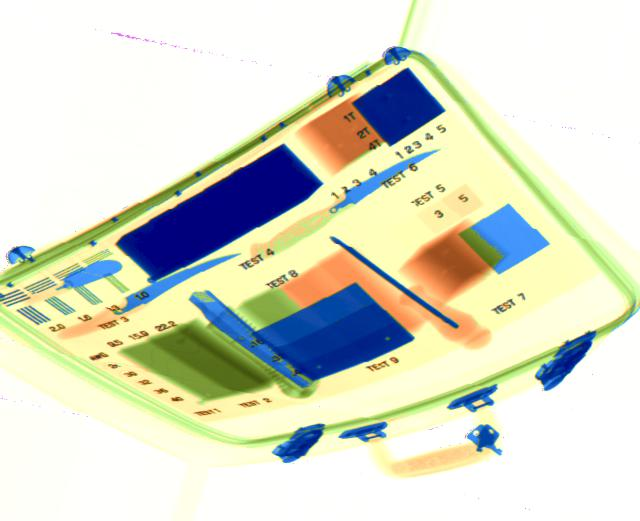Knife: (250, 147, 441, 267), (57, 251, 242, 341), (21, 260, 123, 308)
